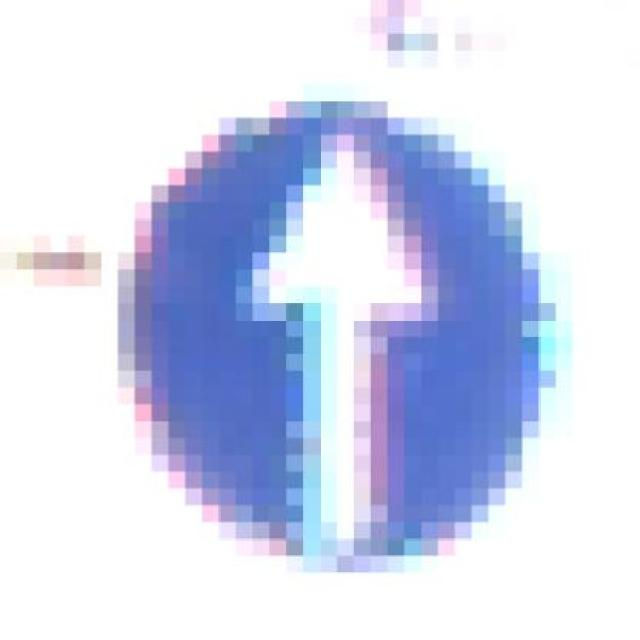Straight Ahead Only: (135, 84, 556, 590)
